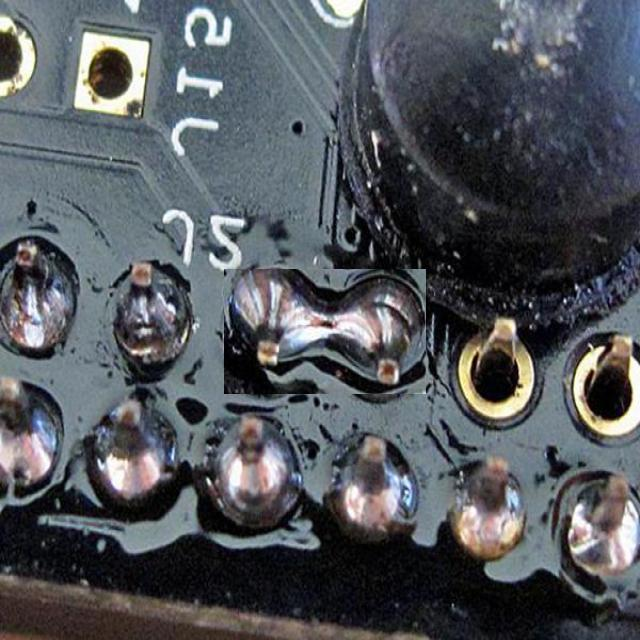Short_circuit: (224, 269, 426, 394)
